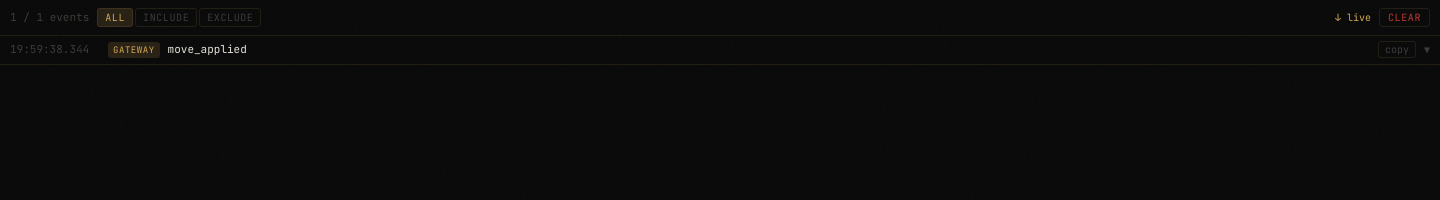
Test: WsDevtools › clicking again collapses payload
Click the button with test id "event-summary" at (50, 49), box x1=0 y1=36 x2=1439 y2=64
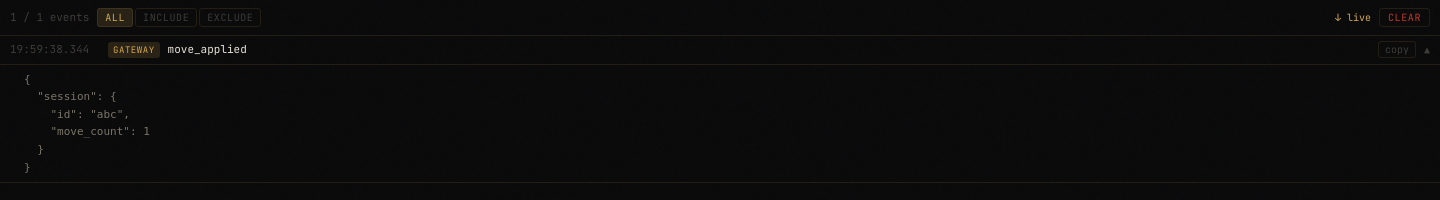
Result: the text "{ \"session\": { \"id\": \"abc\", \"move_count\": 1 } }" is shown at x1=24 y1=73 x2=150 y2=174
Click the button with test id "event-summary" at (50, 49), box x1=0 y1=36 x2=1439 y2=64
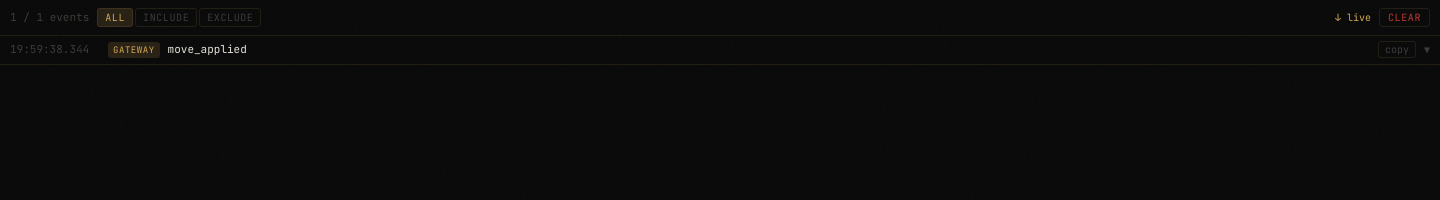
Result: the text with test id "event-payload" is gone
